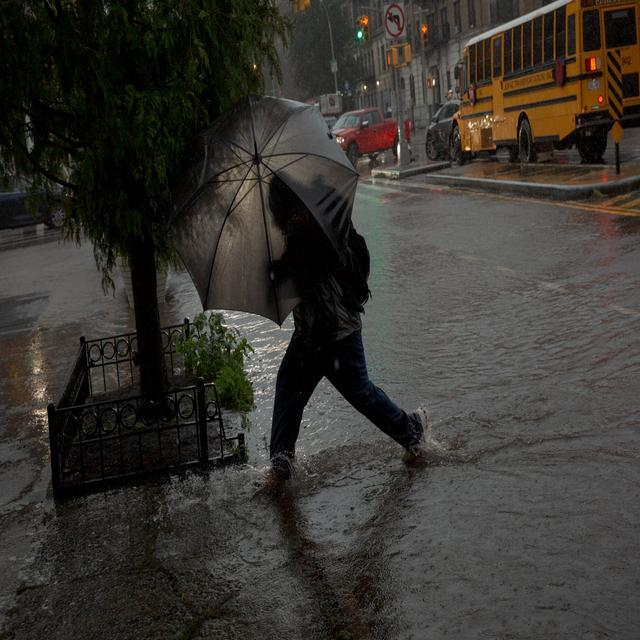Person-RiskLevel2: (241, 169, 437, 473)
